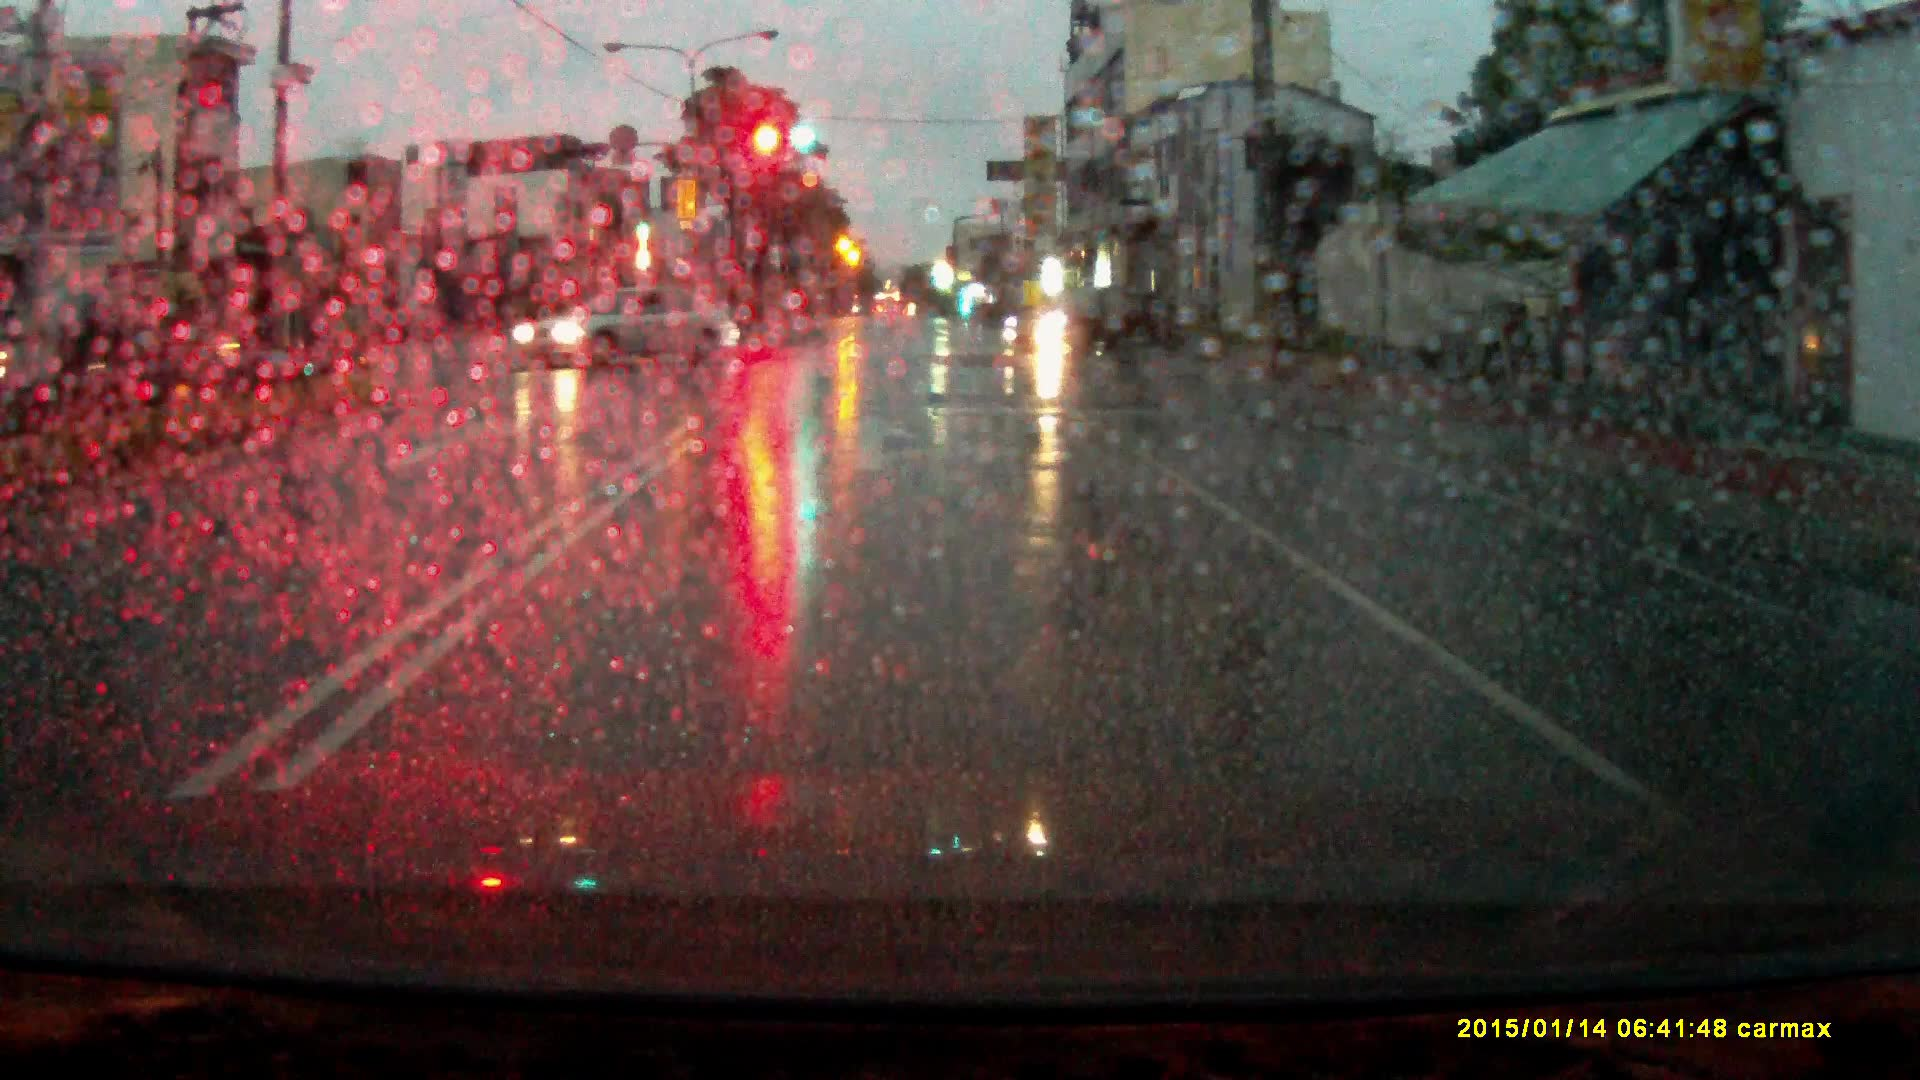vehicle: (22, 265, 284, 392), (513, 287, 745, 375), (1006, 293, 1187, 359)
